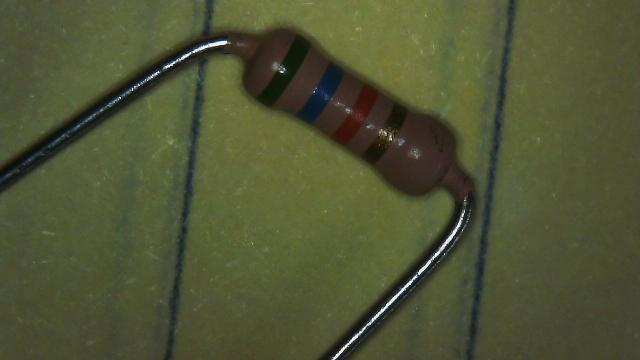blue: (296, 61, 344, 122)
gold: (362, 103, 406, 164)
green: (258, 35, 310, 106)
orange: (332, 84, 378, 145)
resistor: (217, 4, 486, 230)
